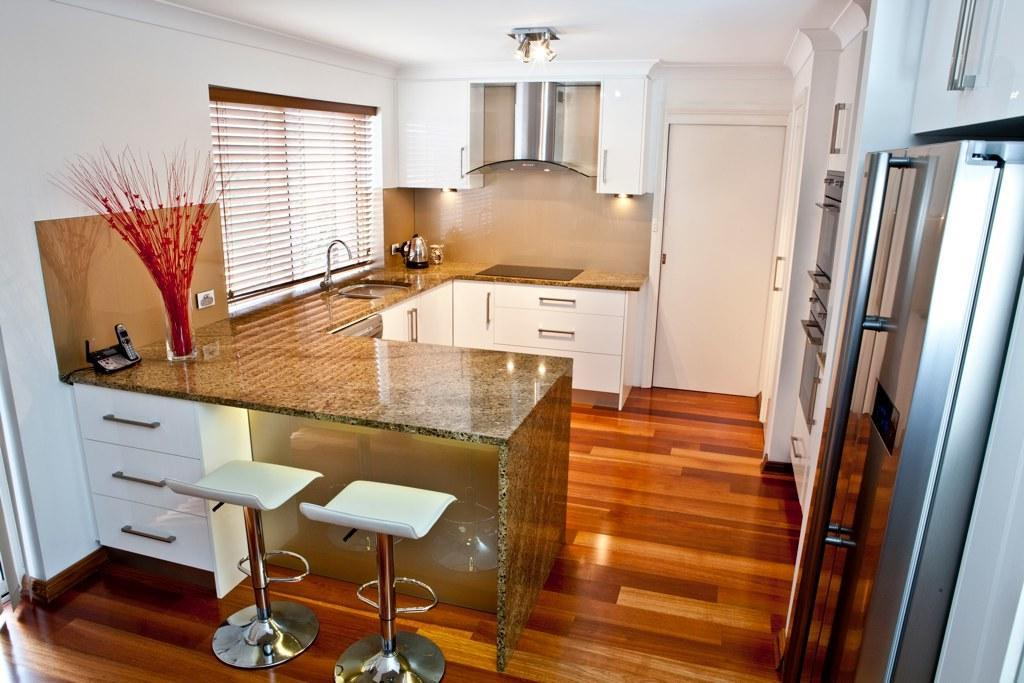door: (661, 127, 783, 381)
handle: (944, 0, 992, 90), (118, 515, 182, 545), (109, 460, 168, 490), (101, 406, 165, 433), (475, 285, 497, 337), (403, 302, 427, 344), (832, 96, 847, 160), (453, 137, 472, 185), (799, 317, 826, 348), (535, 292, 580, 310), (596, 146, 615, 188), (538, 323, 581, 341), (768, 253, 786, 294), (805, 263, 831, 290), (805, 293, 827, 320), (788, 432, 805, 461), (813, 200, 843, 216)
